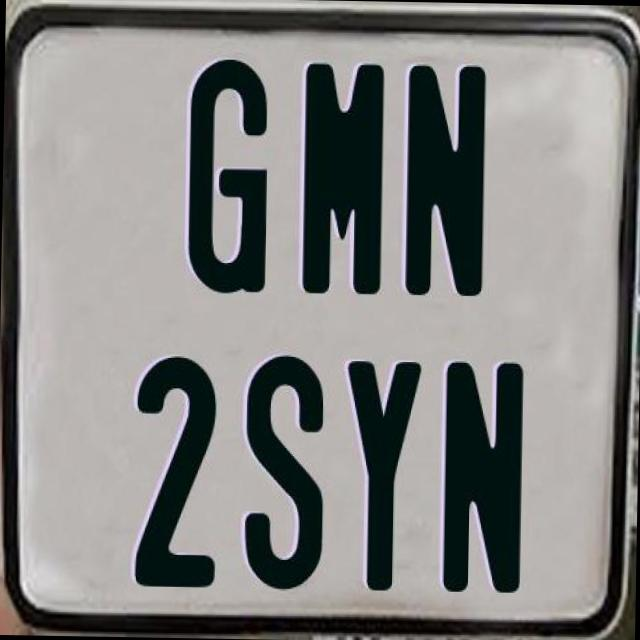2: (132, 352, 218, 588)
G: (186, 56, 274, 290)
M: (297, 59, 383, 299)
N: (438, 356, 525, 596), (404, 62, 492, 296)
S: (240, 350, 322, 586)
Y: (340, 358, 420, 594)
